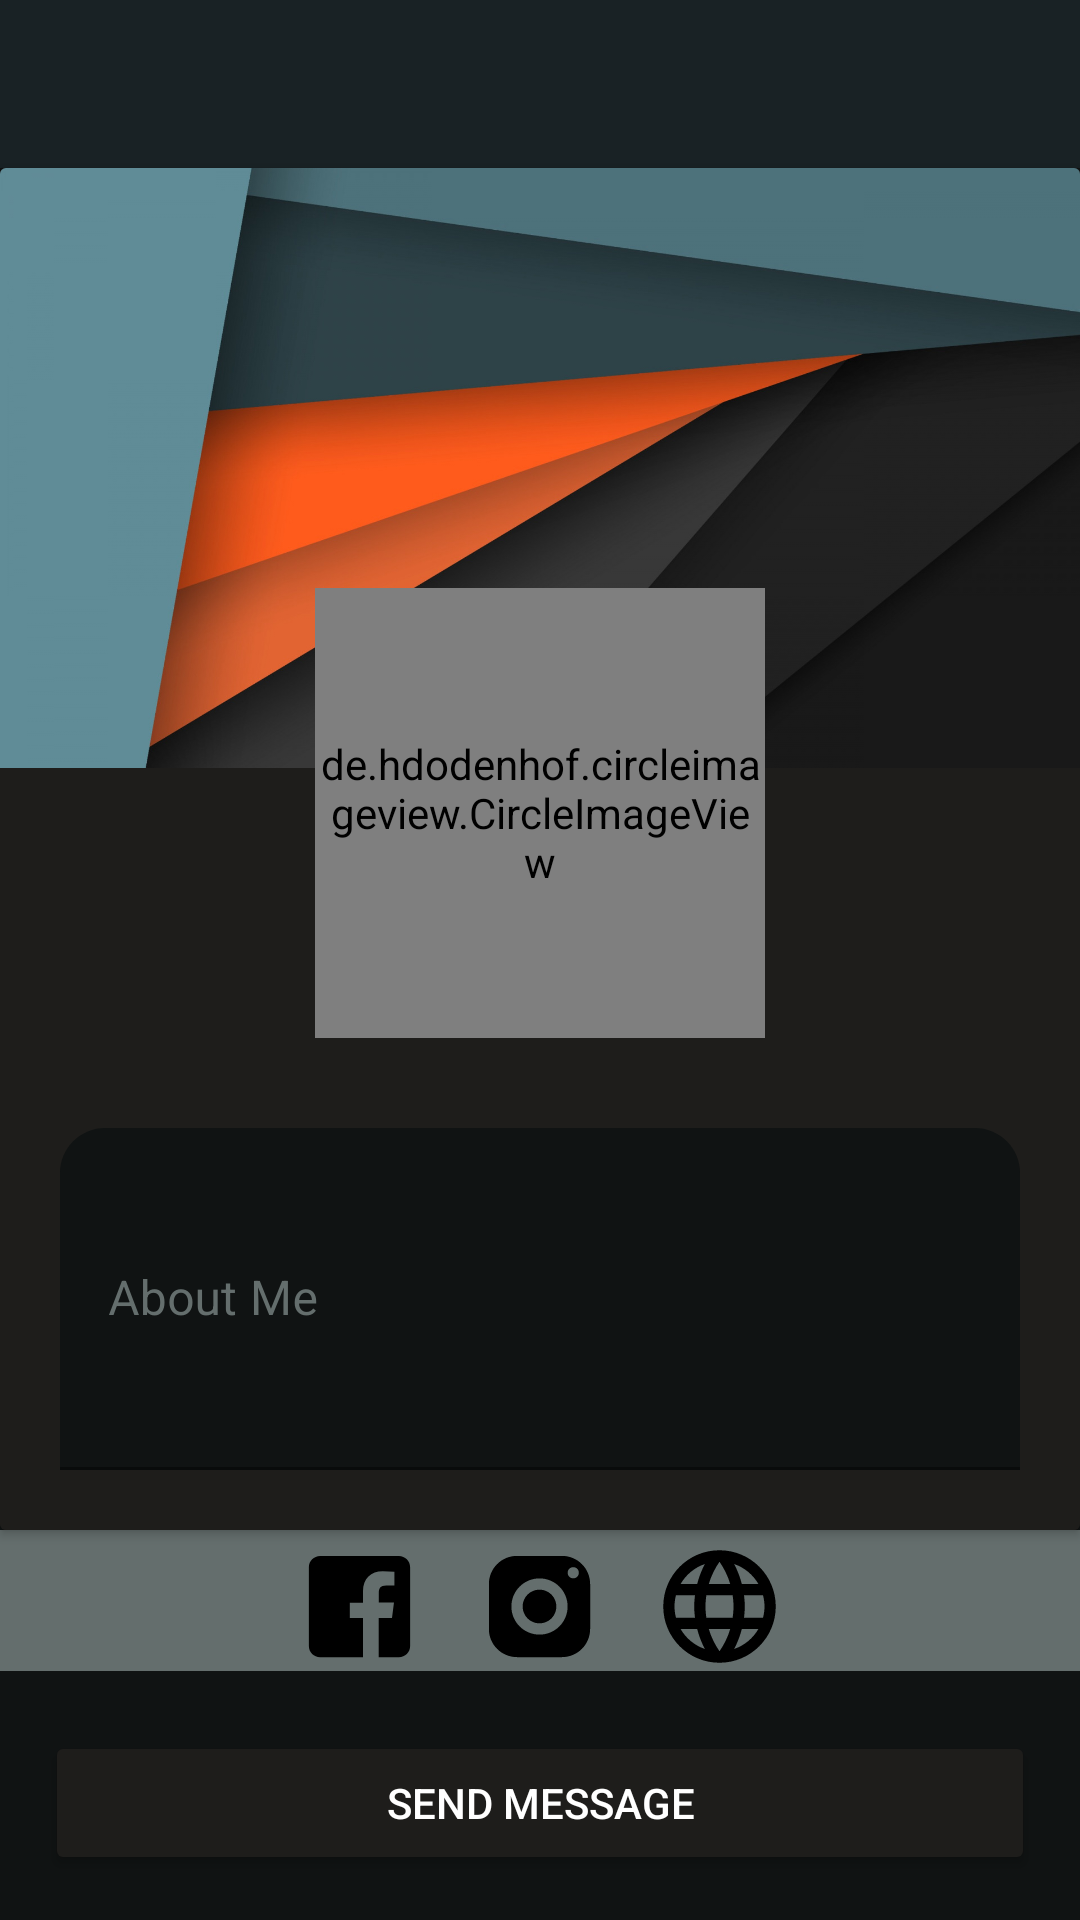

Point at icon controls on the screen. Image size 1080*1920, points as point (x, y).
website: point (719, 1606)
